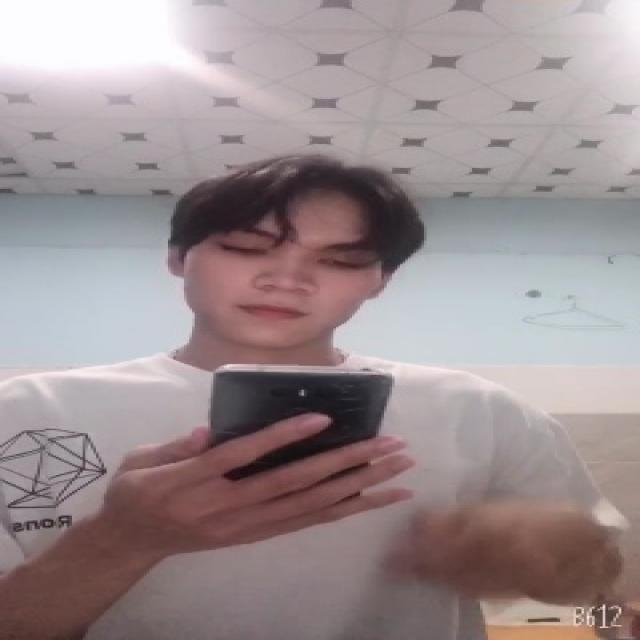Phone: (207, 363, 399, 484)
